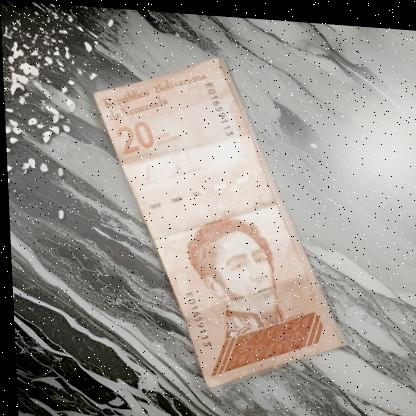twenty-front-vef: (43, 90, 386, 351)
